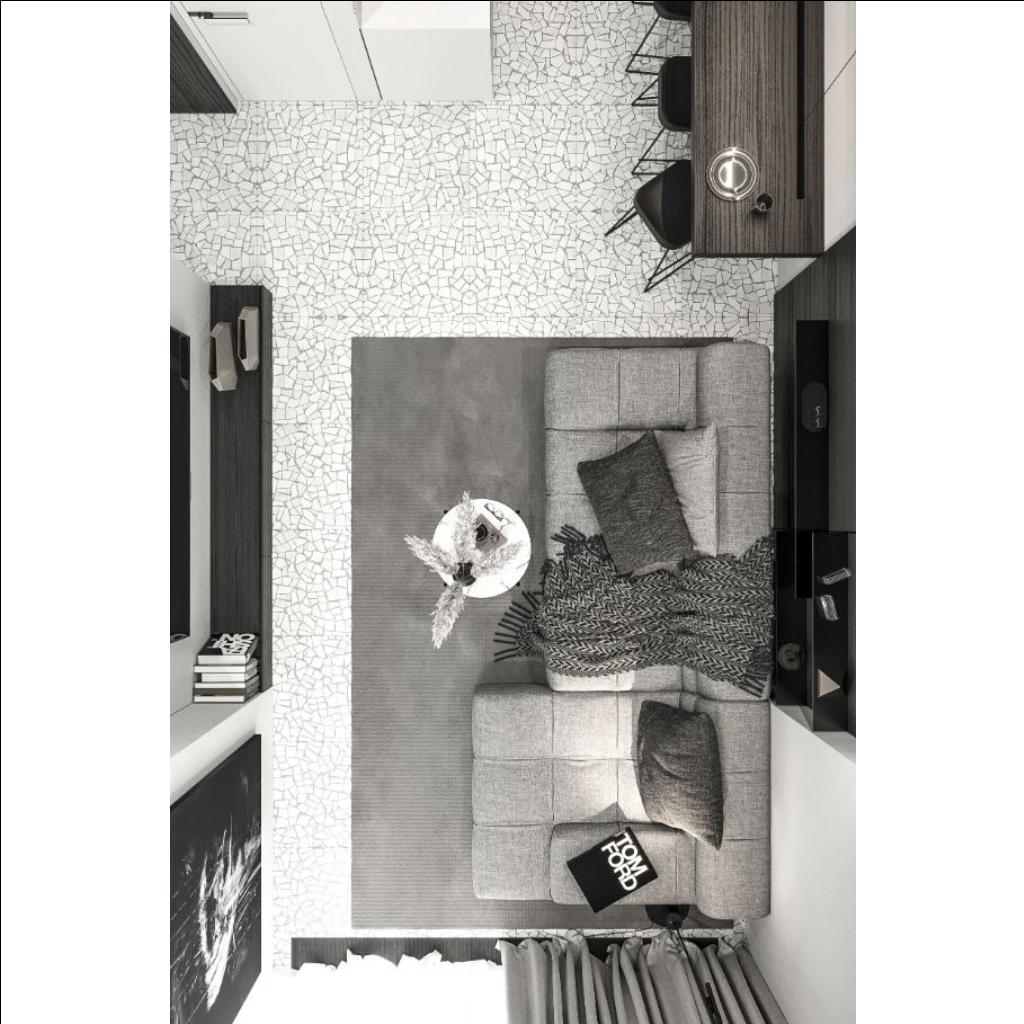TV stand: (172, 284, 270, 700)
chair: (631, 166, 687, 250), (628, 54, 686, 134)
chair-bed: (472, 700, 766, 918)
coffee table: (428, 498, 528, 600)
desk: (692, 4, 822, 254)
floor lamp: (647, 920, 689, 944)
rug: (349, 336, 735, 928)
shelves: (776, 277, 852, 739)
sofa: (542, 344, 764, 692)
wardrobe: (174, 6, 494, 114)
window: (510, 1002, 778, 1022), (251, 1002, 507, 1022)
